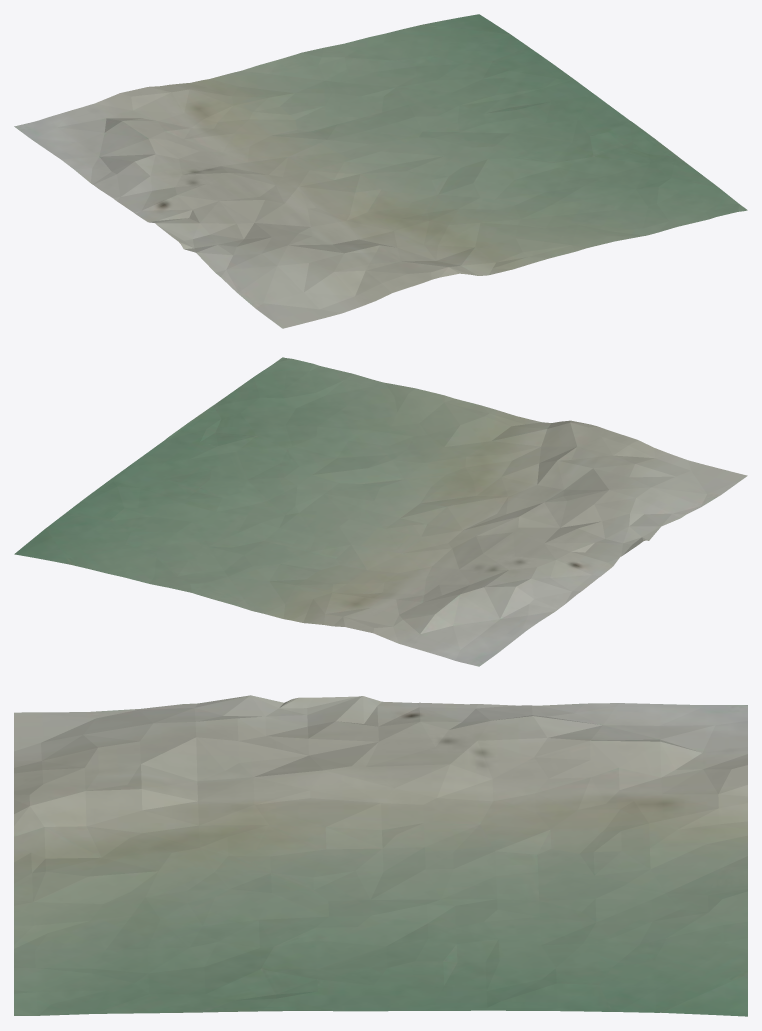
3 renders of one model, top to bottom at view 1: azimuth 30°, elevation 25°; view 2: azimuth 150°, elevation 25°; view 3: azimuth 270°, elevation 25°, orthographic. The views are drawn at different scales.
Bounding box in the file's own units: 52.22 × 1.93 × 52.22.
Materials: 2 (2 with a texture image).
